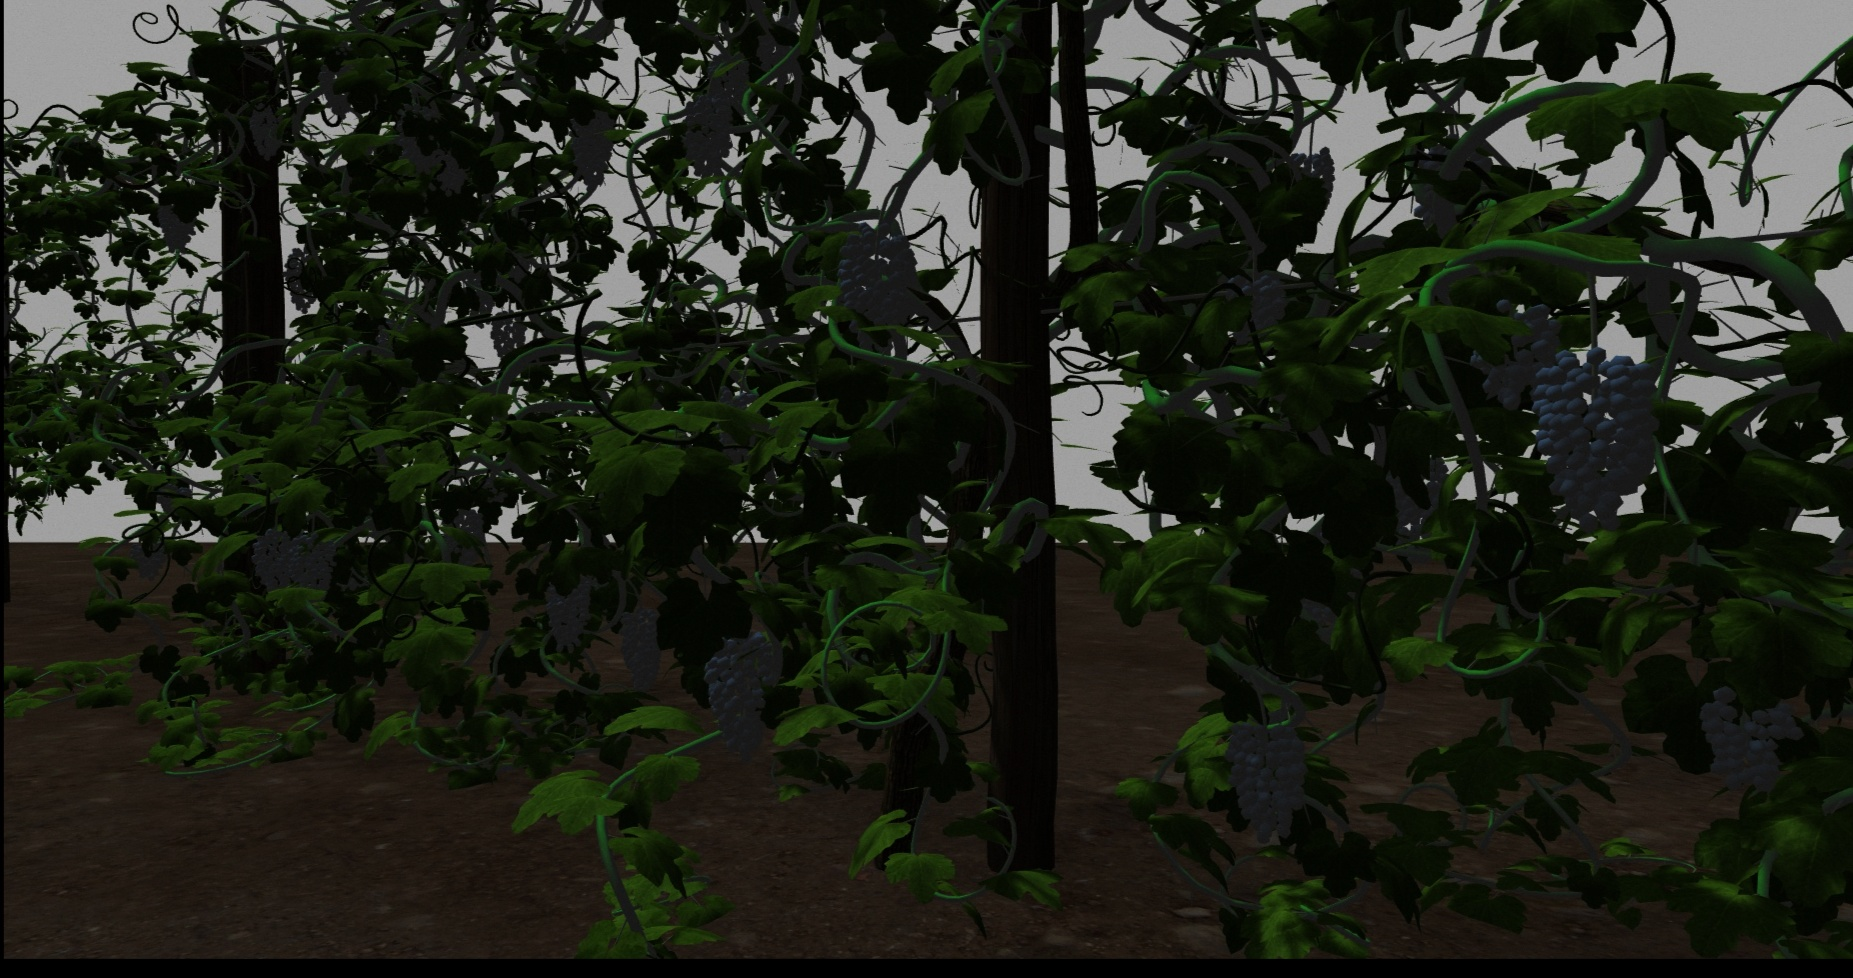grape: (1529, 349, 1657, 539), (1699, 680, 1810, 790), (1223, 717, 1306, 849), (1468, 297, 1560, 408), (701, 632, 777, 764), (835, 223, 919, 333), (681, 86, 734, 179), (1226, 270, 1288, 347), (619, 603, 665, 695), (540, 574, 591, 654), (567, 105, 615, 190), (396, 103, 444, 174), (288, 532, 335, 597), (251, 527, 290, 596), (154, 194, 196, 251), (248, 98, 286, 159), (490, 306, 529, 360), (707, 53, 751, 93), (130, 536, 163, 585)
